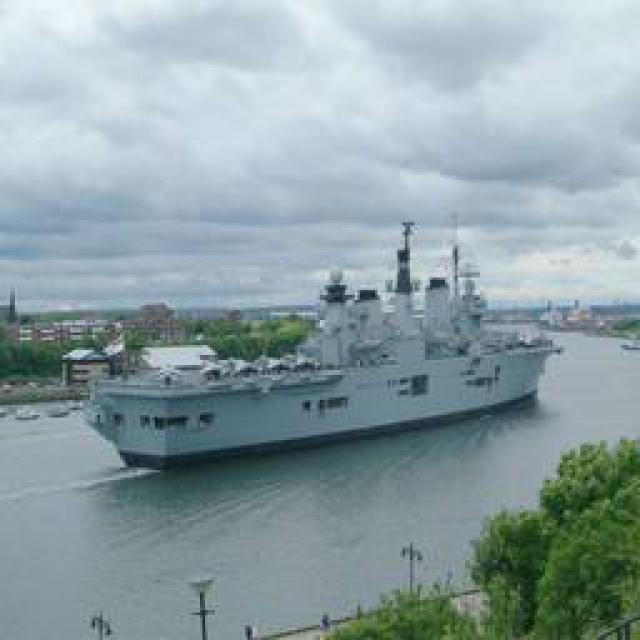Ship: (85, 215, 560, 475)
